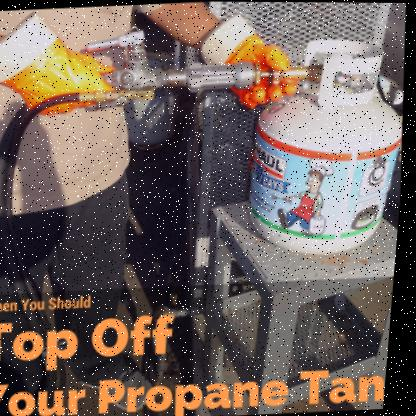gas-tank: (236, 27, 413, 267)
